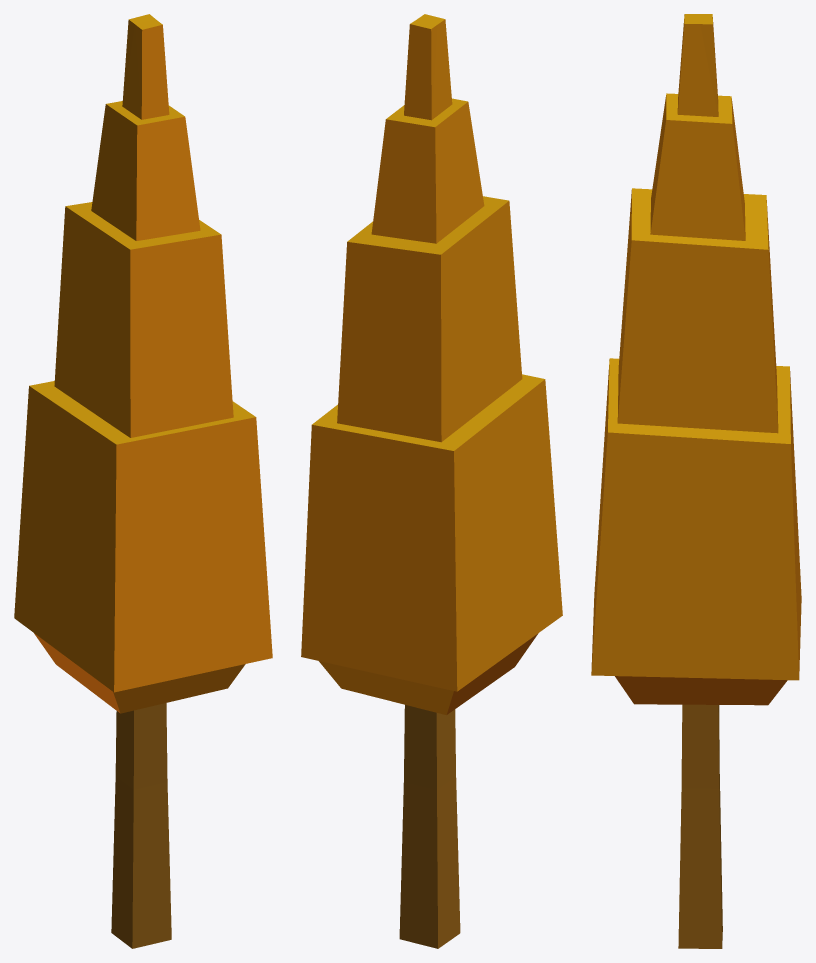
The model's file is SF_Env_Tree_Fall_08.fbx.
The picture shows the model from 3 angles, left to right: view 1: azimuth 30°, elevation 25°; view 2: azimuth 150°, elevation 25°; view 3: azimuth 270°, elevation 25°; orthographic projection.
Parts seen in each view (by area): view 1: SF_Env_Tree_Fall_08; view 2: SF_Env_Tree_Fall_08; view 3: SF_Env_Tree_Fall_08.
Boxes of the visible parts, x1,y1,x2,y2 form: SF_Env_Tree_Fall_08: [14, 14, 272, 948]; SF_Env_Tree_Fall_08: [301, 14, 562, 948]; SF_Env_Tree_Fall_08: [591, 14, 801, 948].
Size of the model in its own units: 1.73 by 9.43 by 1.95.
